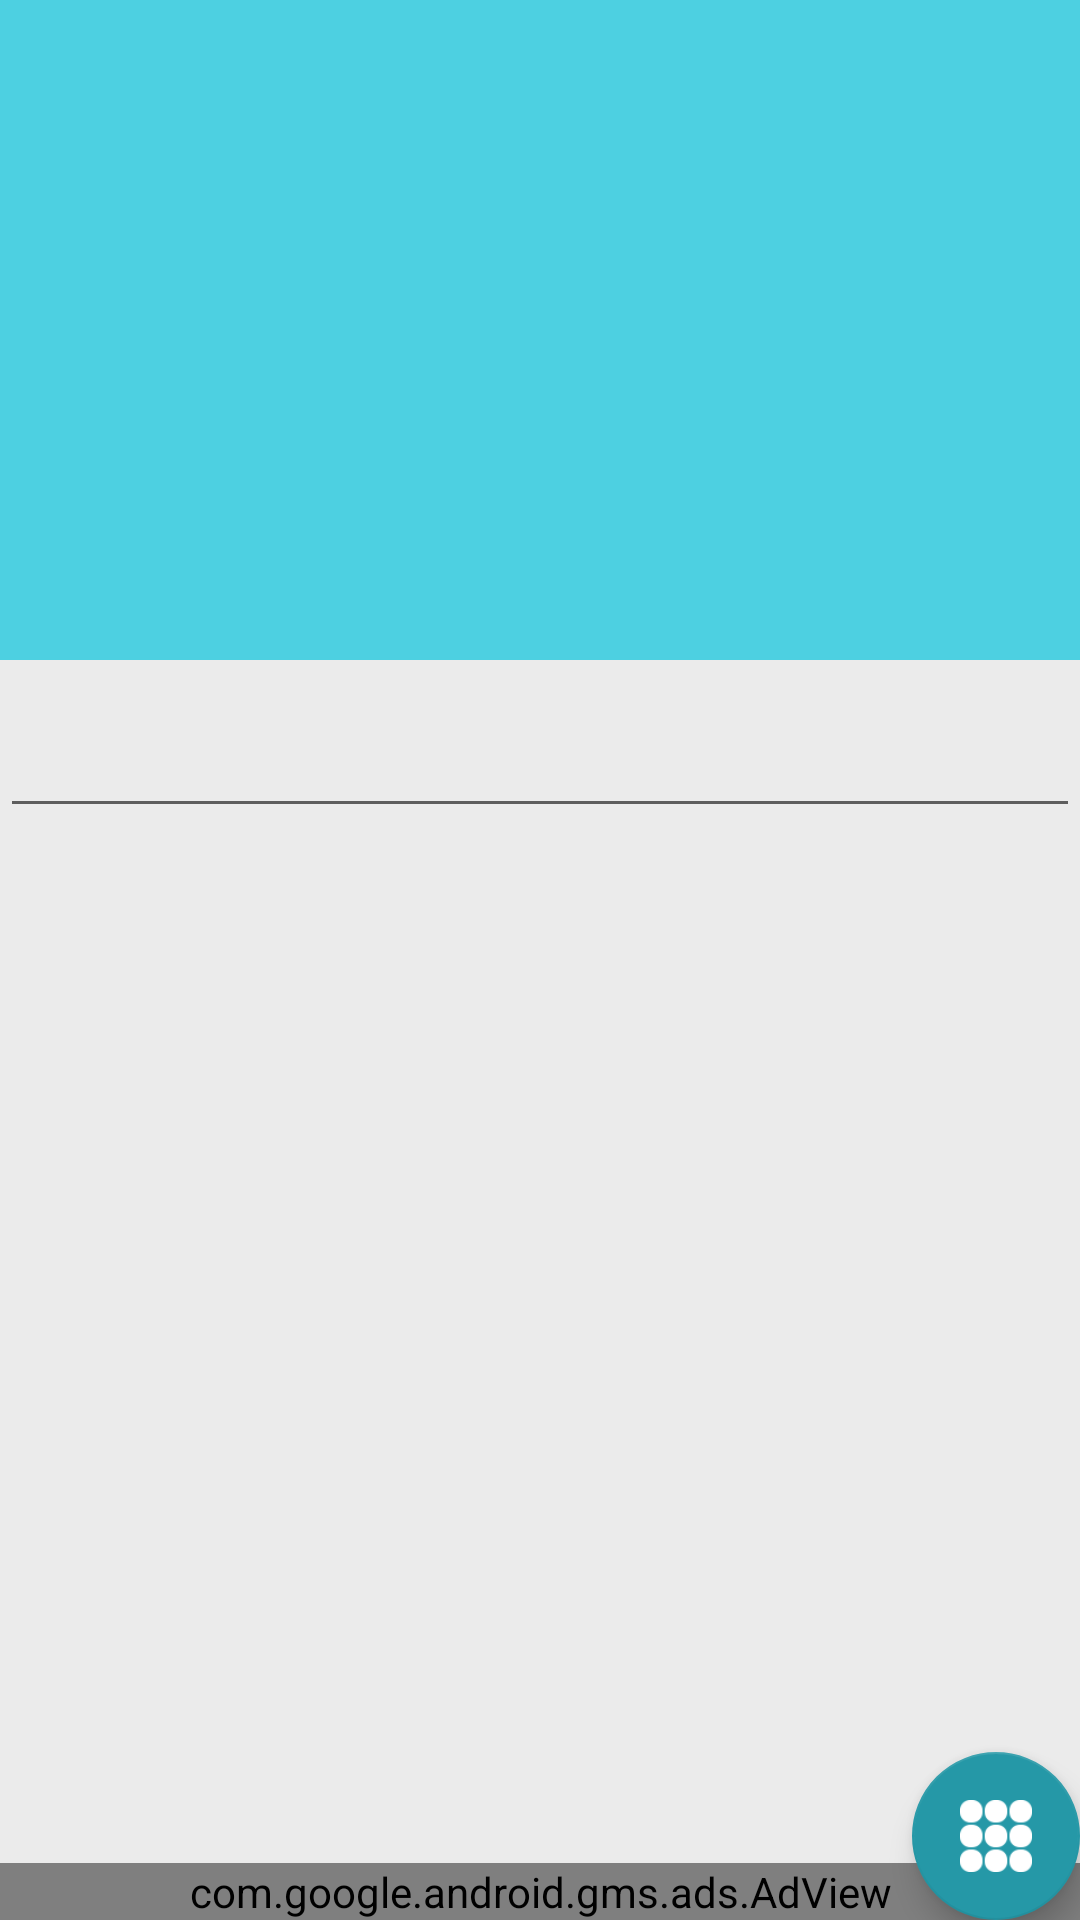

Icon click points for this 1080×1920 phone screenshot, format (x,y):
whiteicmenu: (996,1836)
